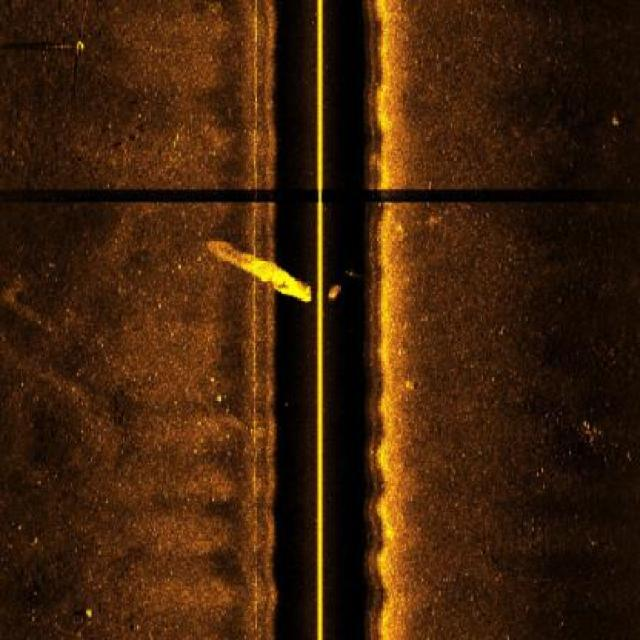mine: (52, 37, 96, 51), (602, 110, 628, 128), (72, 604, 97, 618)
